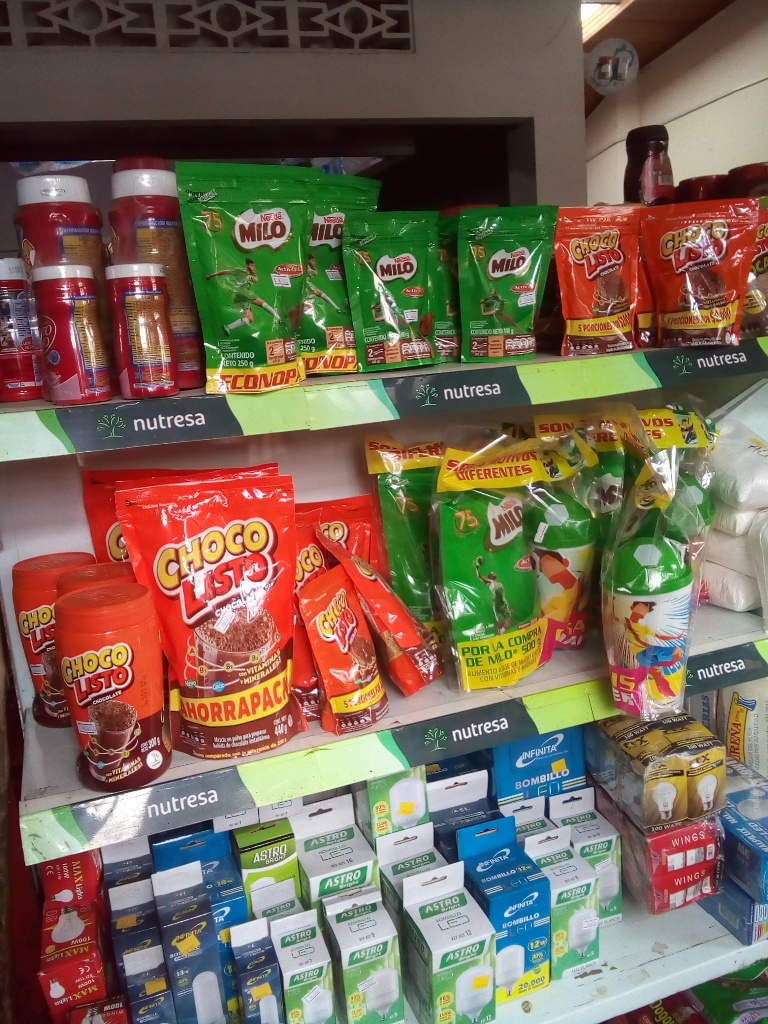COL0170103DYP44000: (111, 475, 298, 761)
COL0170203DYP10000: (456, 205, 558, 363)
COL0170203DYP50000: (431, 477, 550, 646)
